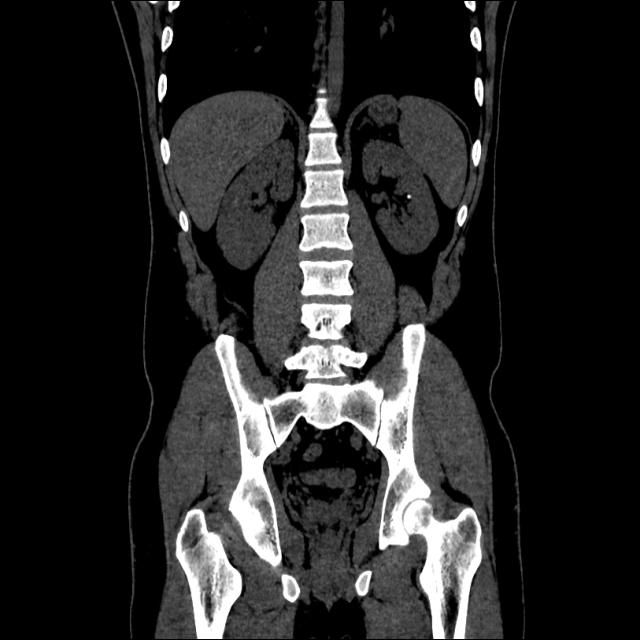kidney: (360, 136, 443, 258), (229, 145, 293, 266)
stone: (405, 188, 415, 206)
